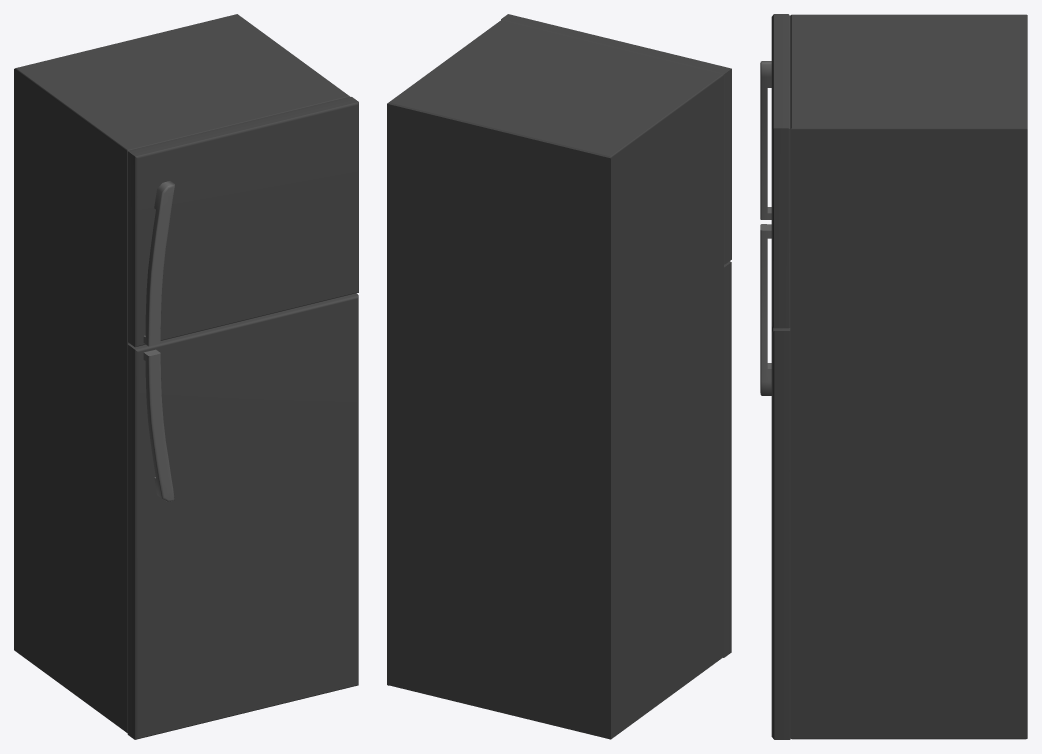
The picture shows the model from 3 angles, left to right: view 1: azimuth 30°, elevation 25°; view 2: azimuth 150°, elevation 25°; view 3: azimuth 270°, elevation 25°; orthographic projection. The views are drawn at different scales.
Visible parts, largest first — view 1: Heladera; view 2: Heladera; view 3: Heladera.
Part boxes in pixels (box(x1,y1,x2,y2)): Heladera: box(14, 14, 358, 739); Heladera: box(387, 14, 731, 739); Heladera: box(760, 14, 1027, 739).
Bounding box in the file's own units: 71.28 × 178 × 70.36.
1 material, 1 textured.
